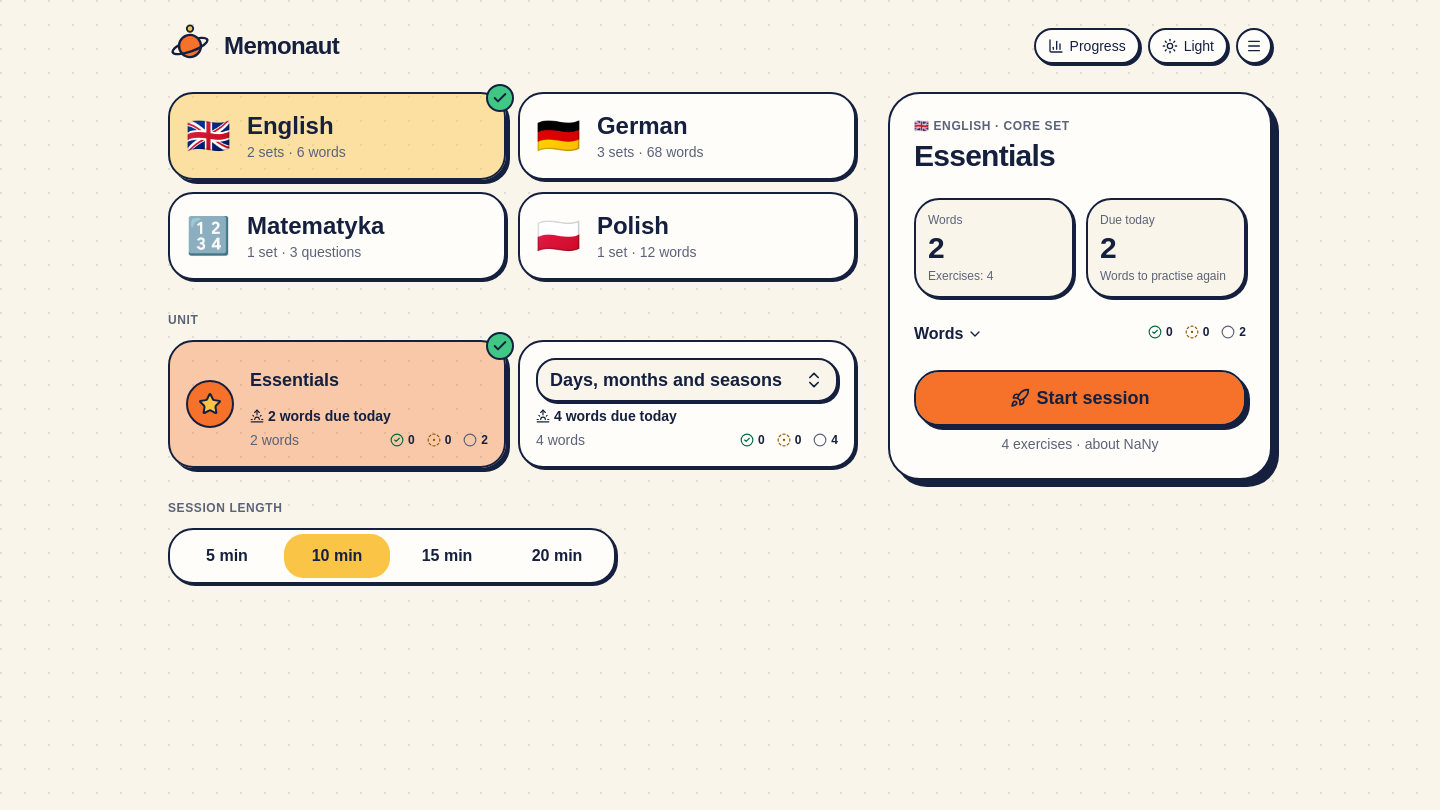
it: special characters keyboard inserts at the caret
The width and height of the screenshot is (1440, 810).
Click the radio button named "German".
click(687, 136)  # box [518, 92, 856, 180]
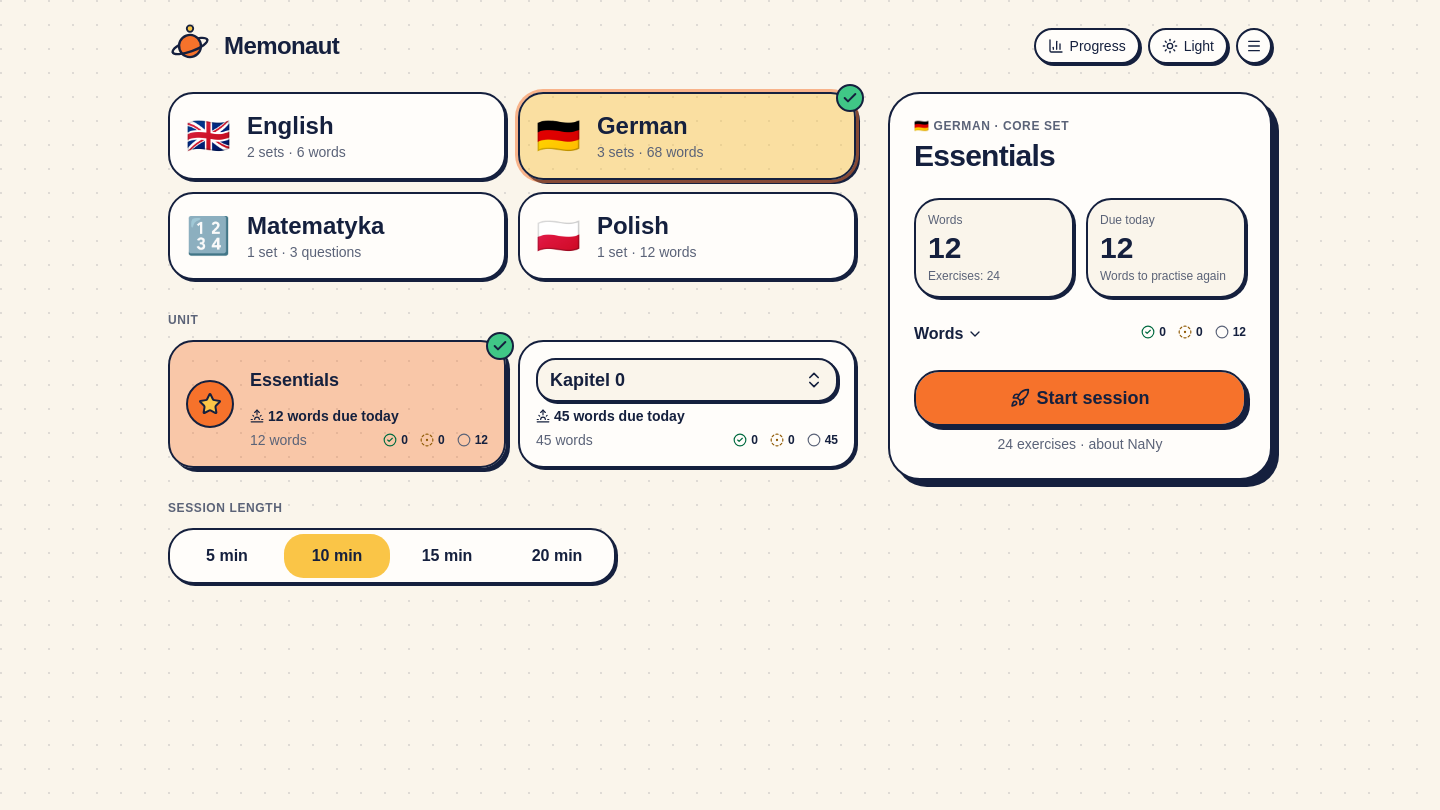
Click the 7th radio button labelled "20 min".
click(557, 556)  # box [532, 547, 582, 564]
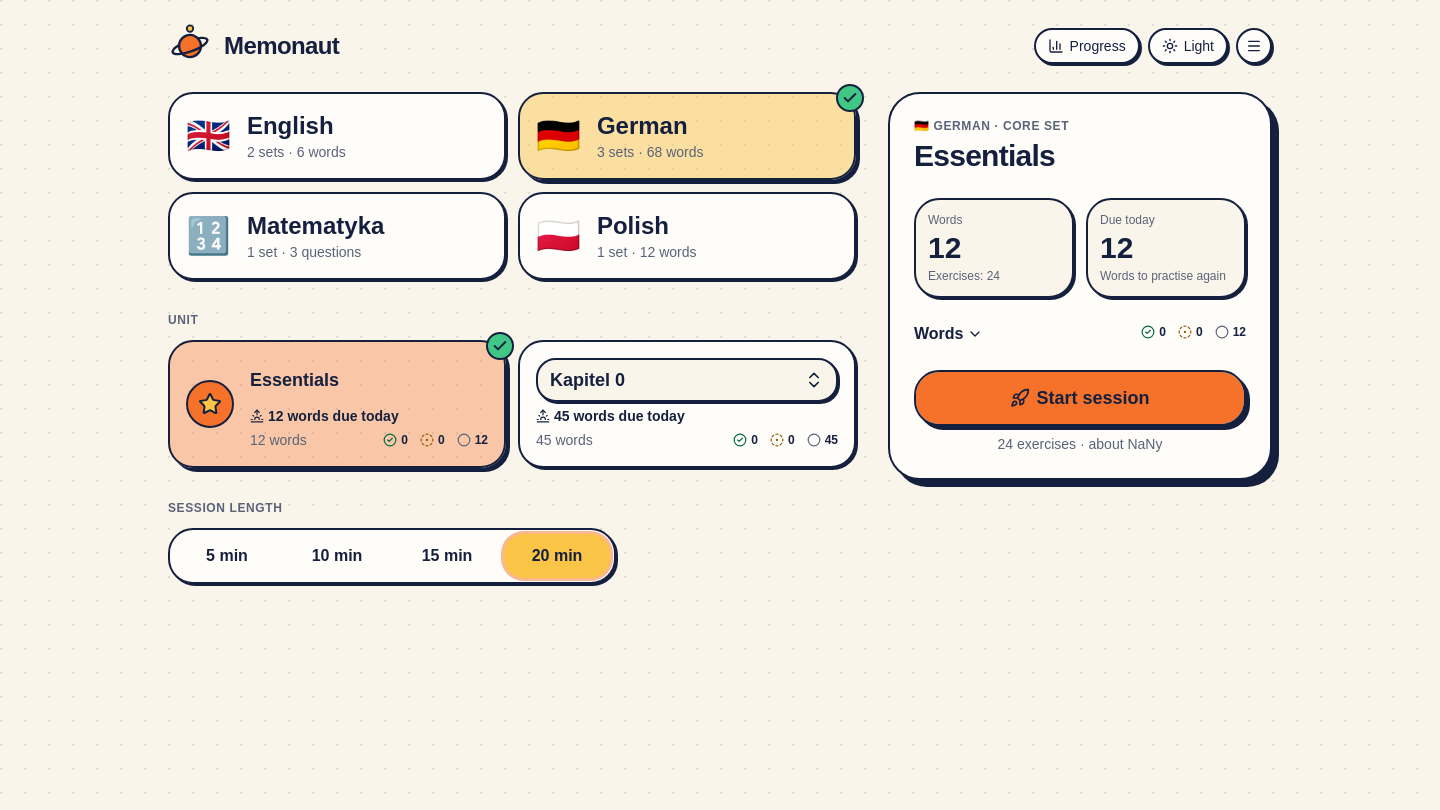
Click the button "Start session".
click(1080, 398)  # box [914, 370, 1246, 426]
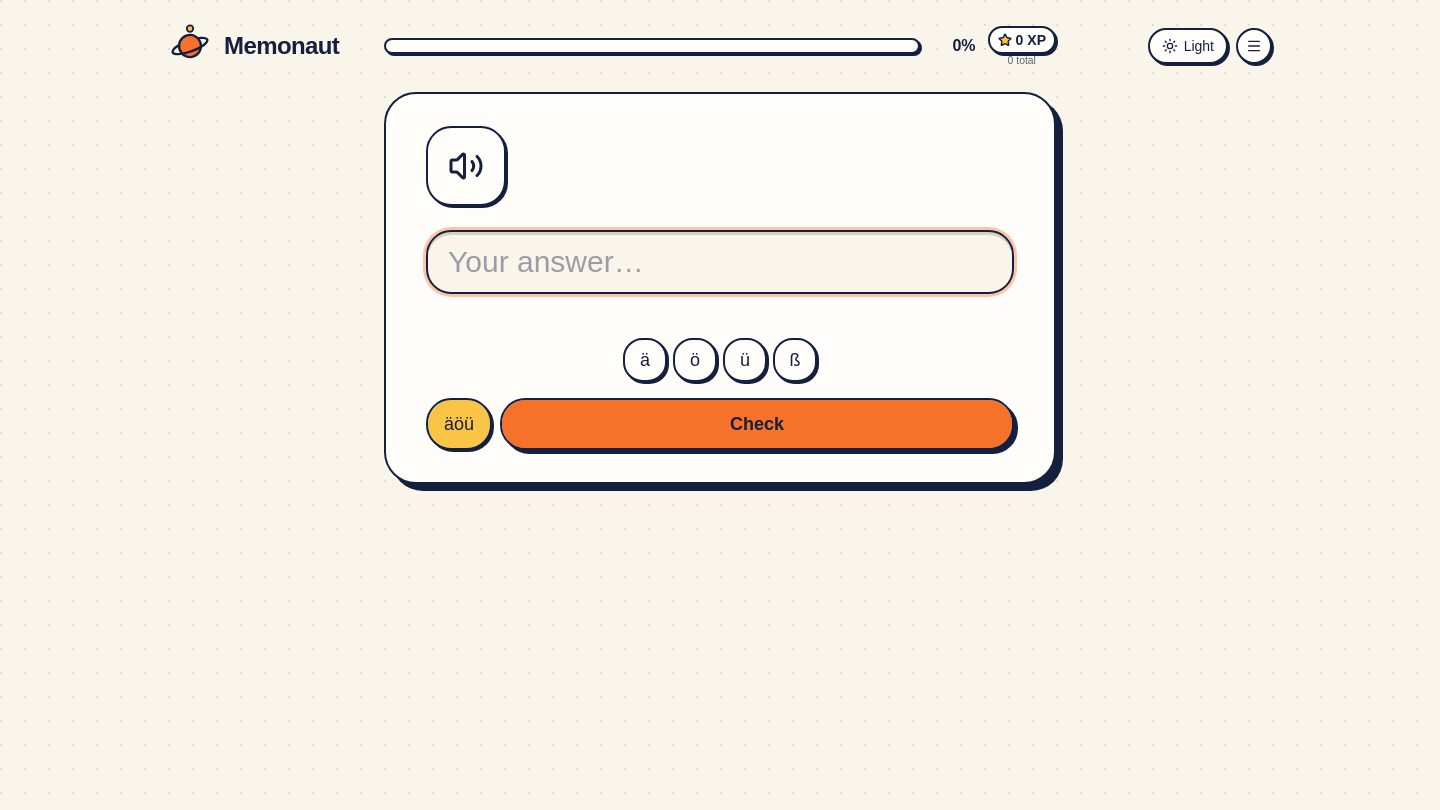
Type "fnf" into the field labelled "answer".
click(720, 262); type("fnf")  # box [426, 230, 1014, 294]
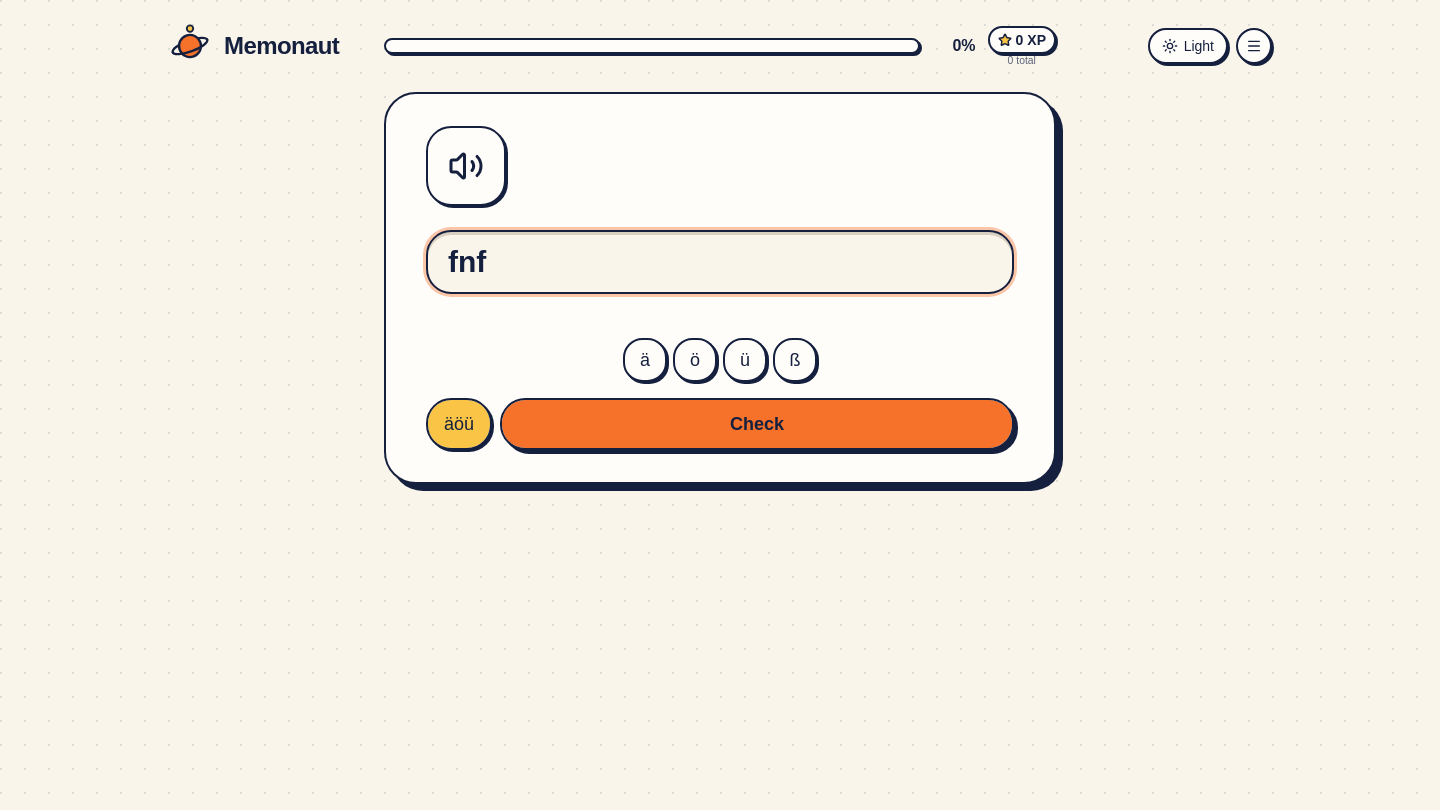
Press Arrowleft Arrowleft
Click the button "ü".
click(745, 360)  # box [723, 338, 767, 382]
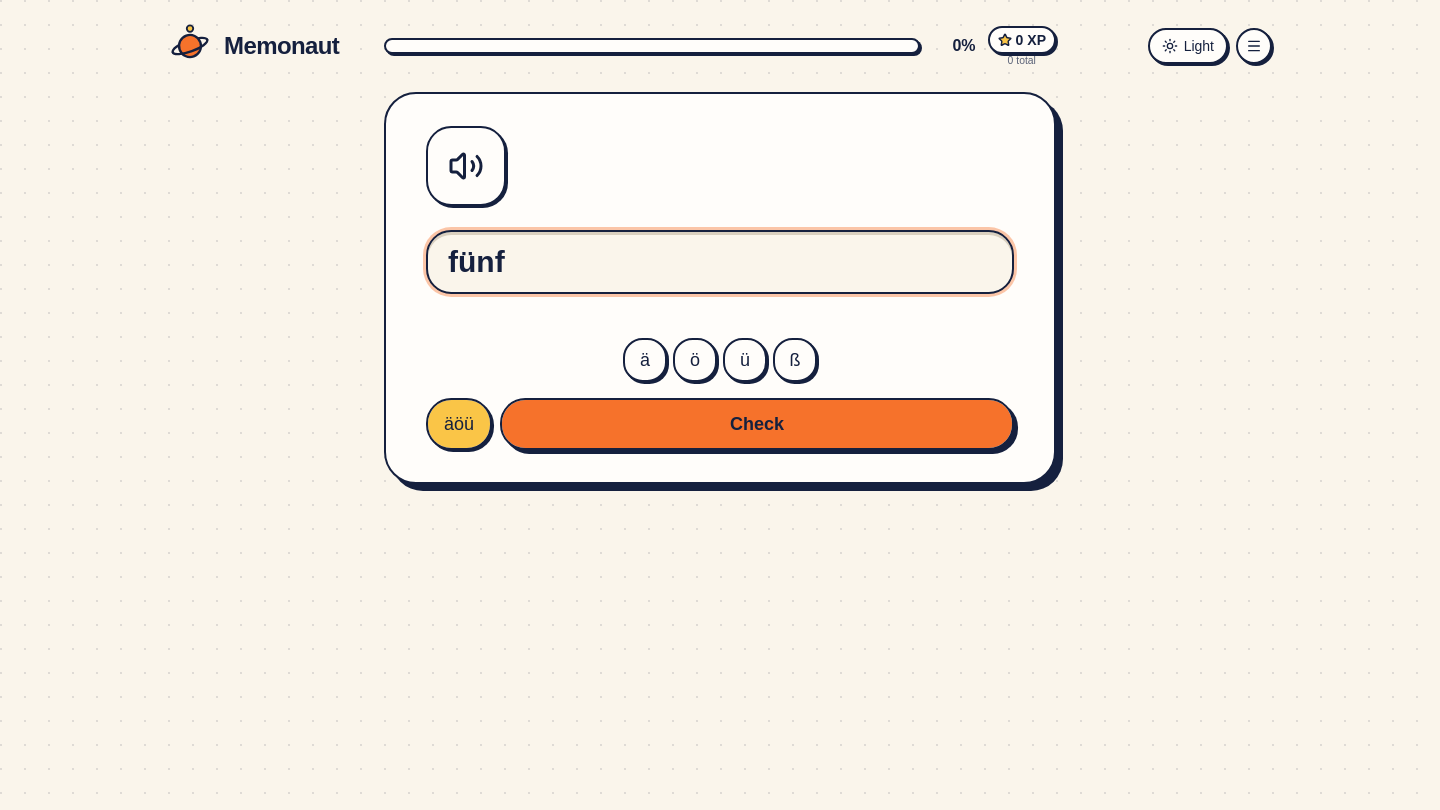
Type keys "x"
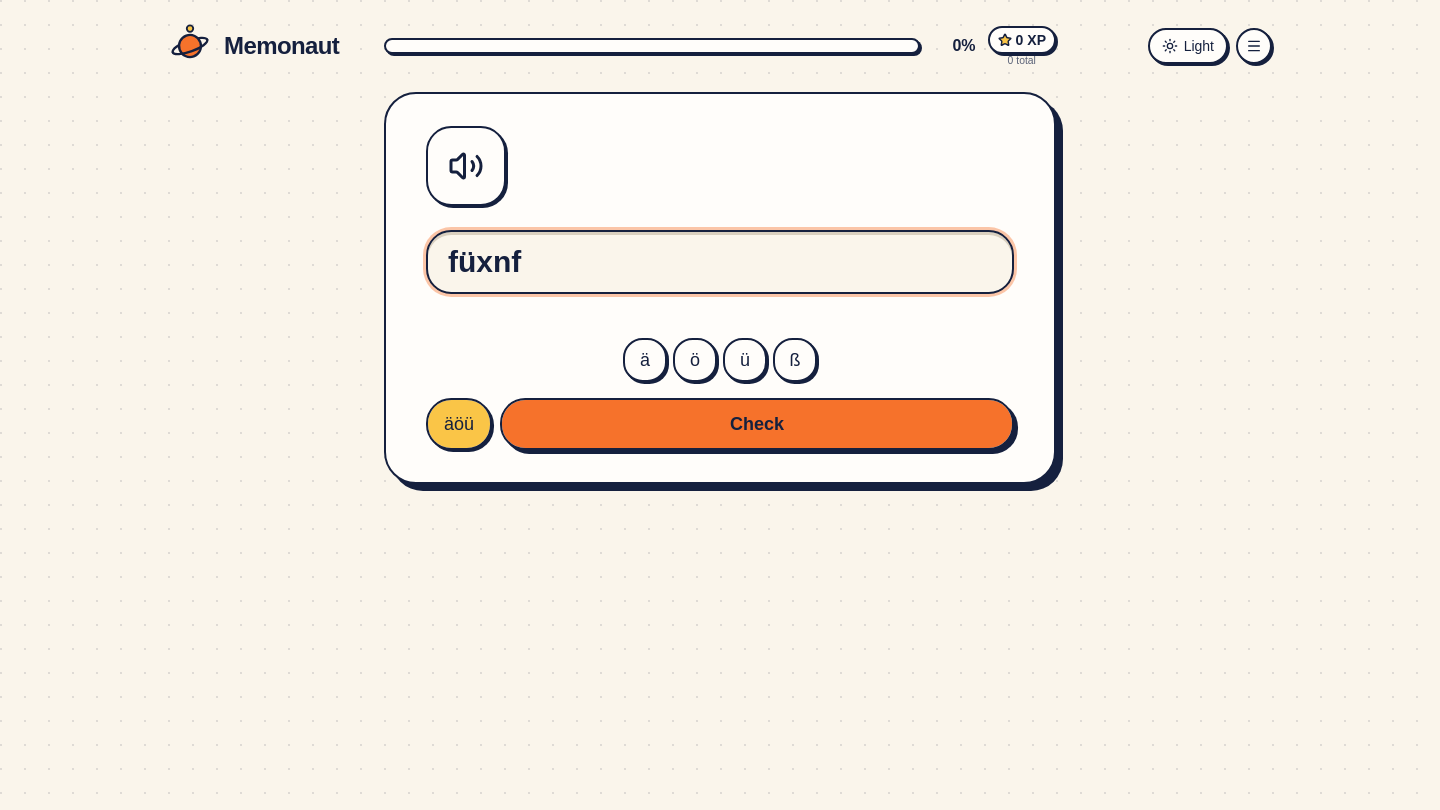
Result: the field named "answer" holds "füxnf" at [426, 230, 1014, 294]
